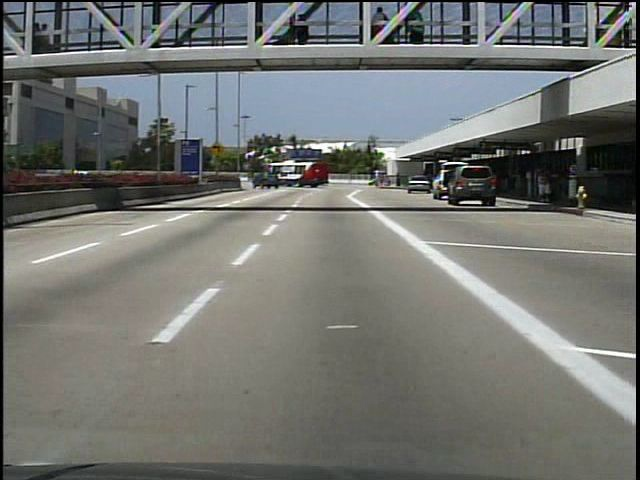person: (530, 157, 554, 205), (28, 19, 51, 60), (292, 15, 314, 49)
